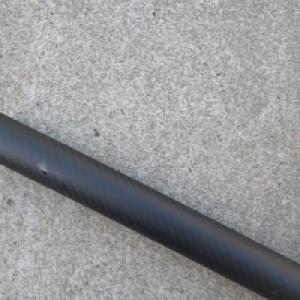LuggagePart: (0, 111, 300, 300)
